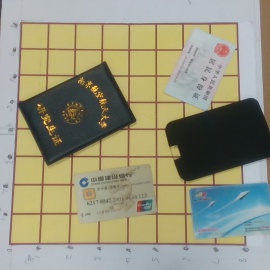card: (163, 27, 236, 111), (70, 163, 159, 223), (188, 182, 270, 240)
